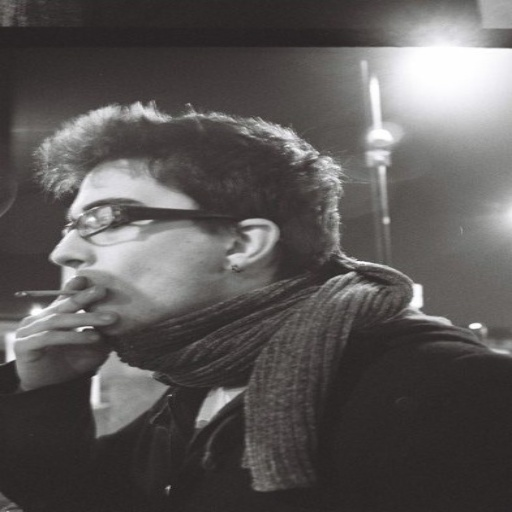hand: (9, 285, 110, 389)
